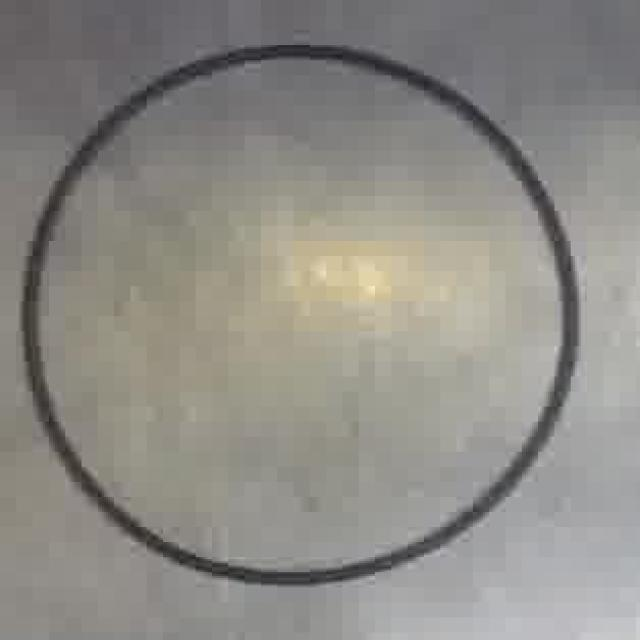Circle: (18, 39, 585, 586)
